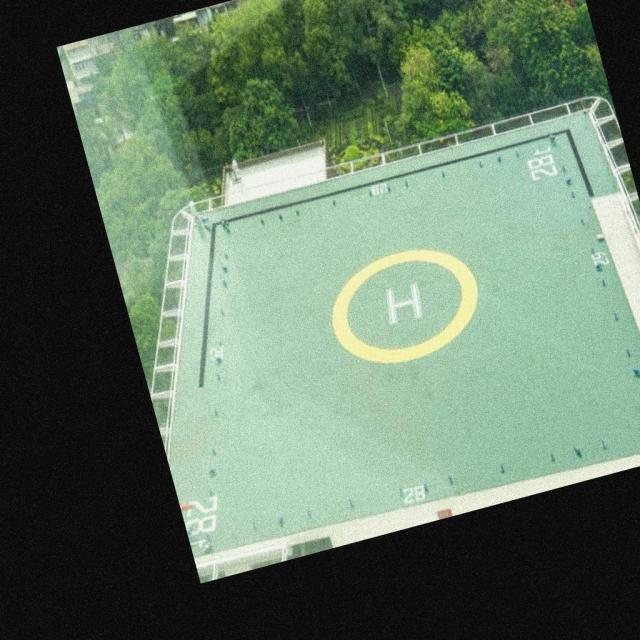helipad: (324, 242, 482, 368)
